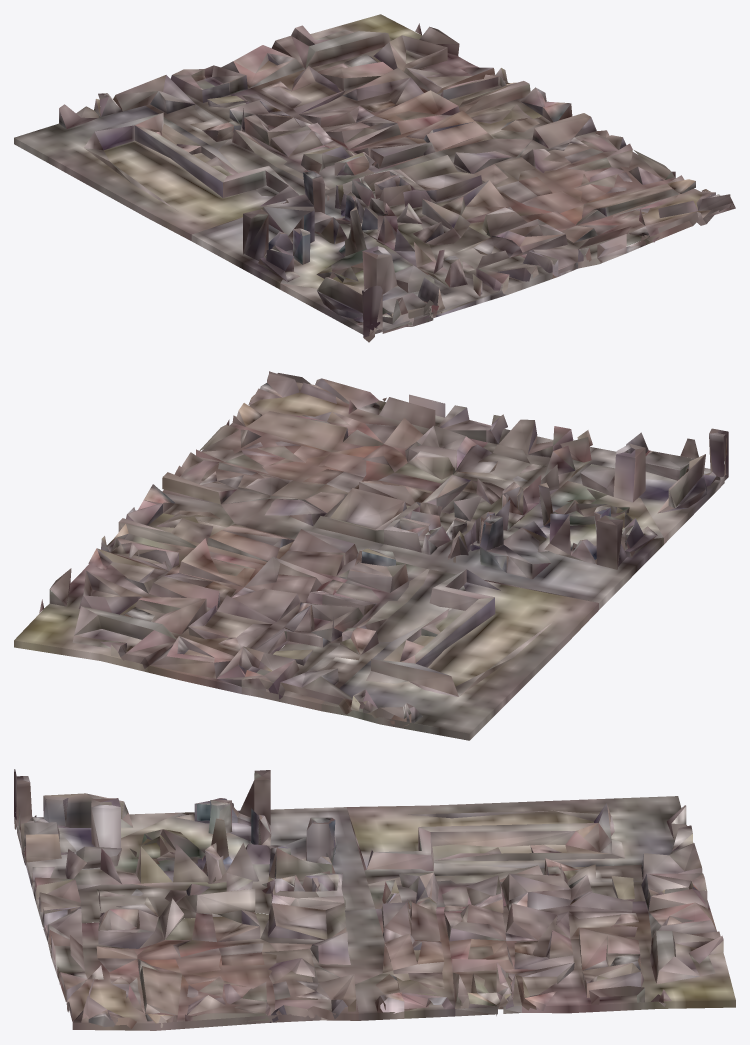
3 renders of one model, top to bottom at view 1: azimuth 30°, elevation 25°; view 2: azimuth 150°, elevation 25°; view 3: azimuth 270°, elevation 25°, orthographic. The views are drawn at different scales.
Visible parts, largest first — view 1: Mesh_0; view 2: Mesh_0; view 3: Mesh_0.
Boxes of the visible parts, x1,y1,x2,y2 form: Mesh_0: (14, 14, 735, 342); Mesh_0: (14, 371, 728, 740); Mesh_0: (14, 769, 735, 1030).
Bounding box in the file's own units: 1064 × 158 × 1320.
Materials: 2 (2 with a texture image).
